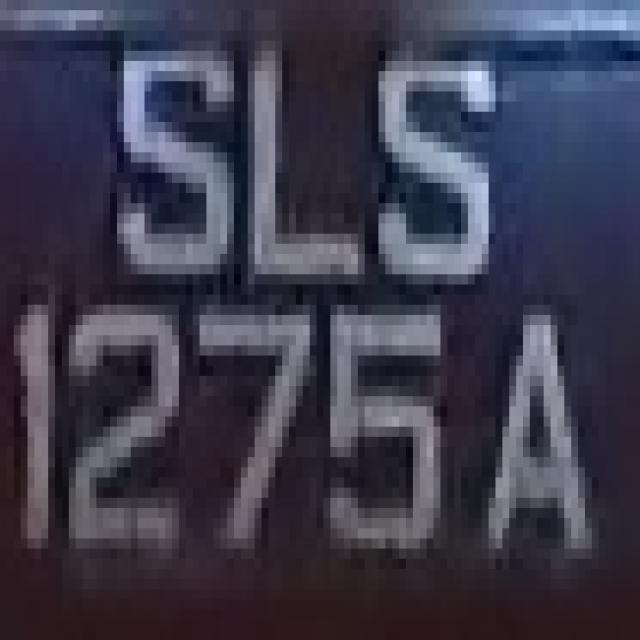1: (0, 294, 69, 600)
2: (62, 274, 200, 600)
5: (330, 294, 448, 569)
7: (186, 284, 323, 569)
A: (468, 295, 606, 579)
L: (234, 31, 385, 284)
S: (103, 20, 241, 295), (365, 30, 502, 305)
